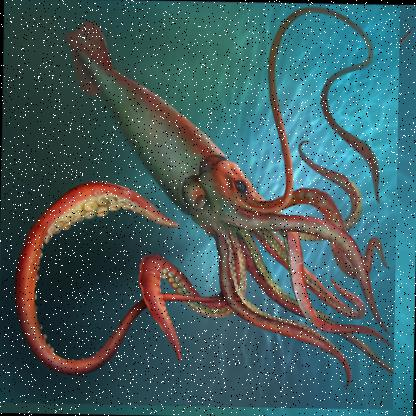colossal_squid: (0, 0, 400, 409)
